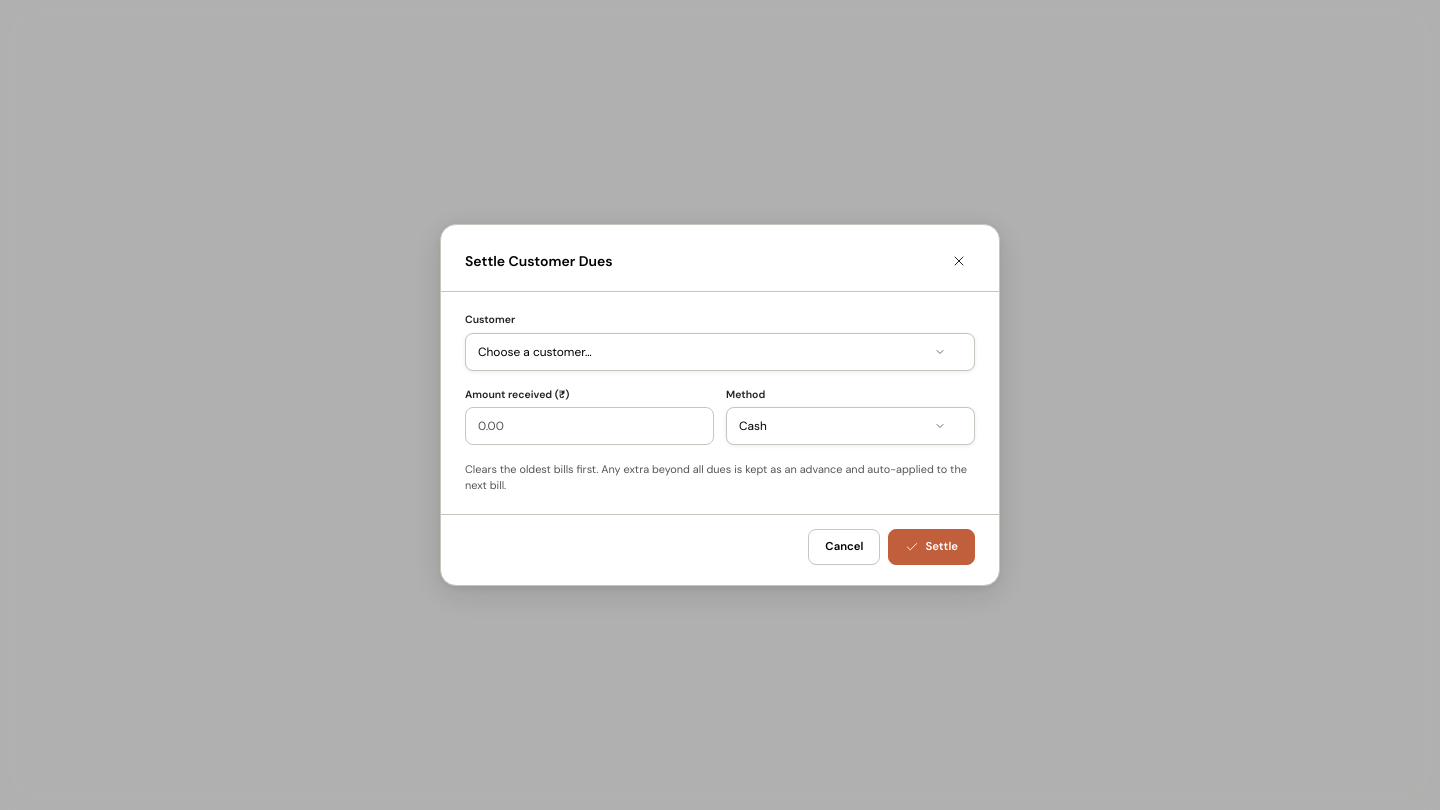
SettleDuesModal › validates amount before submitting
Click the button "Choose a customer…" at (535, 352), box 465,333 -> 975,371
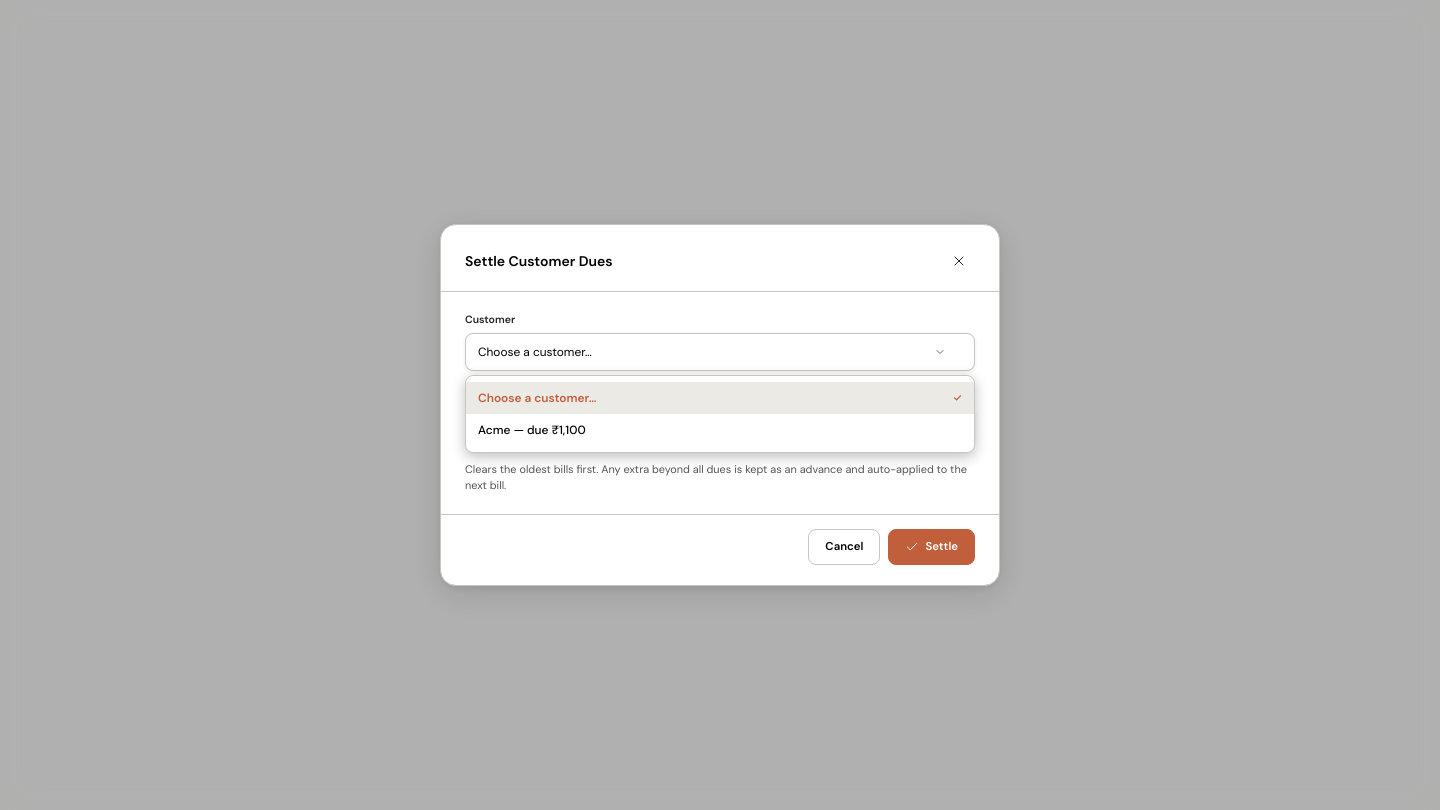
Click the option "Acme — due ₹1,100" at (494, 430), box 466,414 -> 974,446
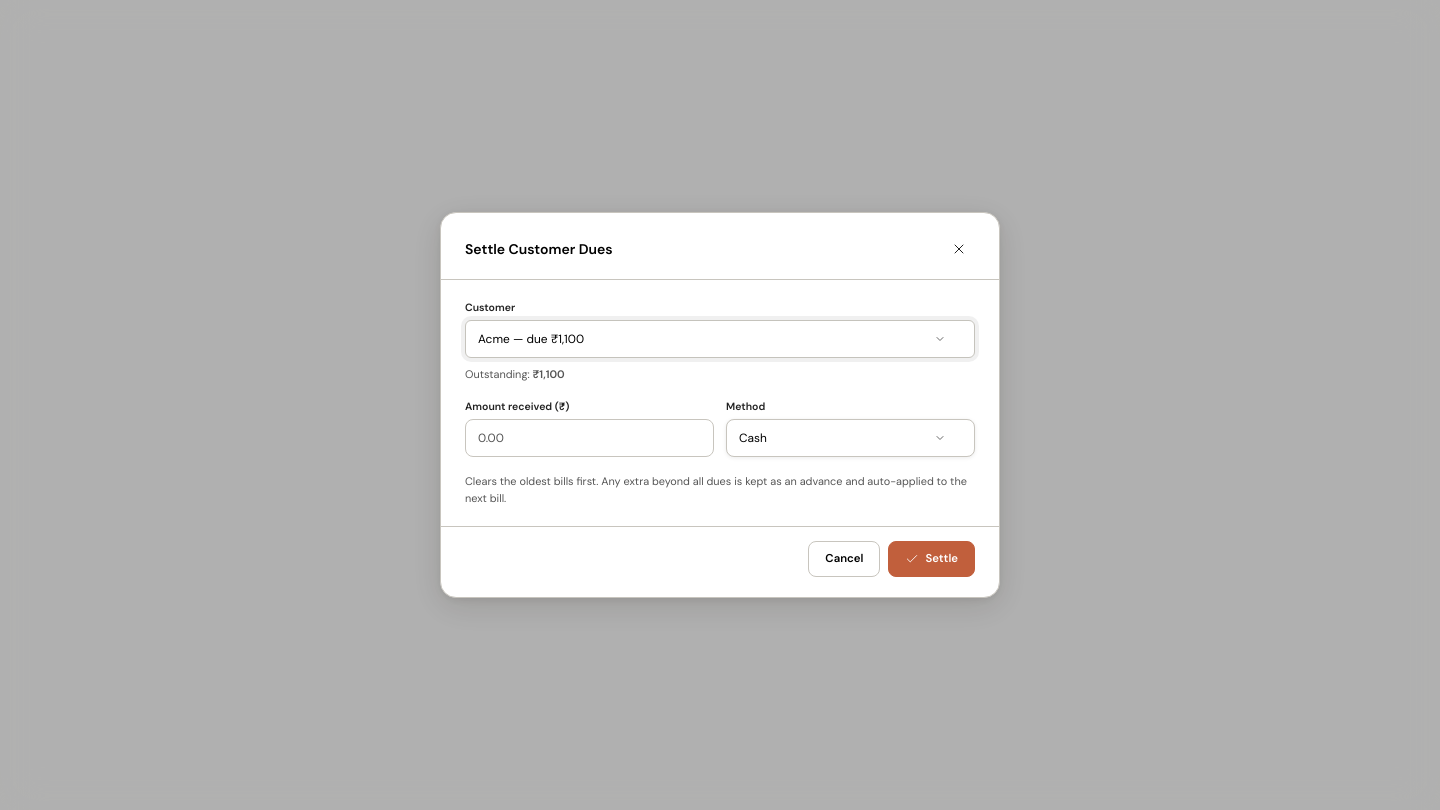
Click the button "Settle" at (932, 559), box 888,541 -> 975,577
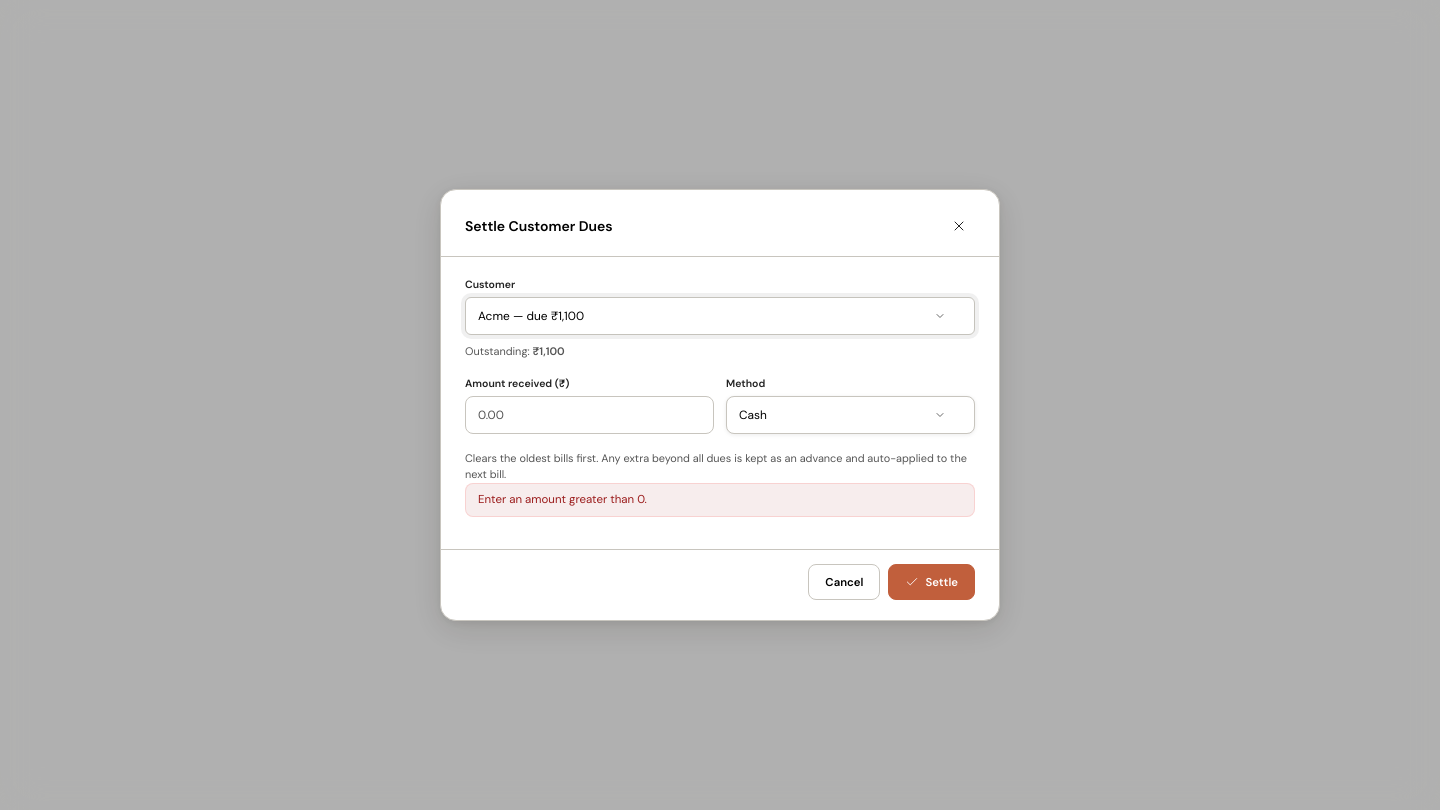
Expected: the text "Enter an amount greater than 0." is shown, 465,483 -> 975,517
